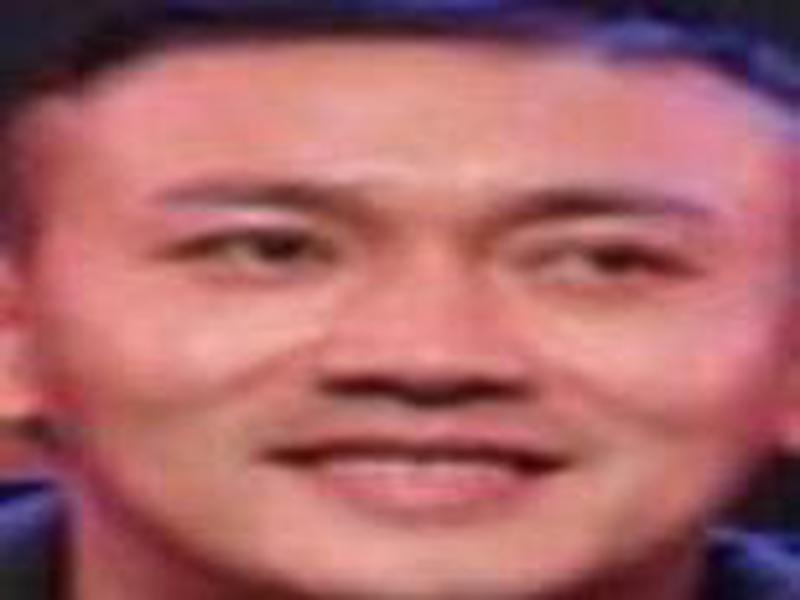without_mask: (32, 89, 781, 587)
